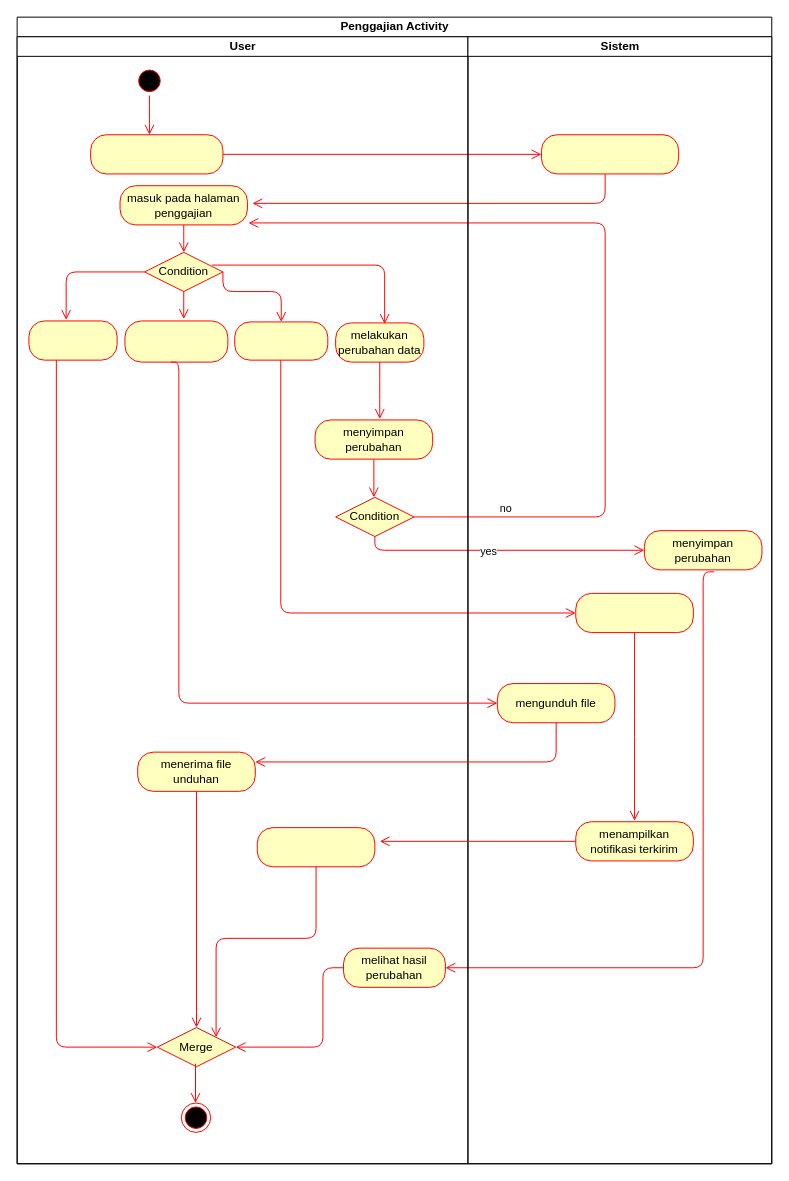
The diagram is 789 pixels wide and 1181 high, and some of its shapes have lost their labels. The shapes that lost their labels are listed below. From the top down, each one's centre as x and y in pixels, then its label:
At point (156, 154): "memilih fitur penggajian di dashboard".
At point (609, 154): "menampilkan halaman penggajian".
At point (72, 340): "membaca data penggajian".
At point (176, 341): "menggunduh laporan penggajian".
At point (281, 340): "mengirim slip gaji".
At point (634, 612): "mengirim slip gaji ke email kayawan".
At point (315, 847): "menerima tampilan notifikasi terkirim".
